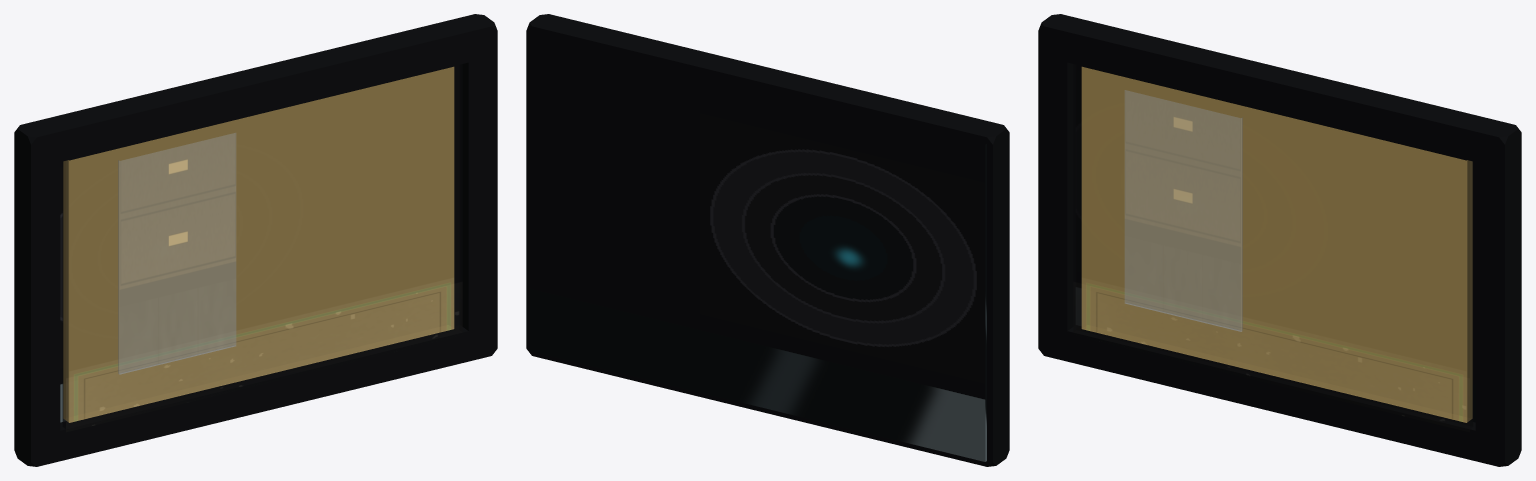
File: room_l3_img2_mural_lightbox.glb
The picture shows the model from 3 angles, left to right: view 1: azimuth 30°, elevation 25°; view 2: azimuth 150°, elevation 25°; view 3: azimuth 330°, elevation 25°; orthographic projection.
Visible parts, largest first — view 1: front_glass, amber_glass, glare_streak, frame_top, frame_bottom, frame_right, frame_left, back_box; view 2: back_box, frame_top, frame_right, frame_bottom, frame_left; view 3: front_glass, amber_glass, glare_streak, frame_top, frame_bottom, frame_left, frame_right, back_box.
Part boxes in pixels (x1,y1,x2,y2): front_glass: (62, 64, 462, 432); amber_glass: (63, 67, 454, 422); glare_streak: (118, 133, 236, 374); frame_top: (14, 14, 497, 167); frame_bottom: (14, 325, 497, 466); frame_right: (14, 121, 60, 466); frame_left: (456, 14, 497, 356); back_box: (60, 65, 459, 422); back_box: (530, 33, 986, 461); frame_top: (526, 14, 1009, 167); frame_right: (964, 121, 1009, 465); frame_bottom: (526, 327, 1009, 466); frame_left: (526, 14, 566, 359); front_glass: (1073, 64, 1473, 432); amber_glass: (1081, 67, 1472, 422); glare_streak: (1124, 90, 1242, 331); frame_top: (1038, 14, 1521, 167); frame_bottom: (1038, 325, 1521, 466); frame_left: (1475, 121, 1521, 466); frame_right: (1038, 14, 1079, 359); back_box: (1076, 65, 1475, 422).
Bounding box in the file's own units: 1.6 × 1.08 × 0.117.
Materials: 5 (5 with a texture image).
